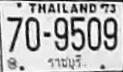0: (24, 16, 40, 51), (86, 16, 102, 51)
5: (70, 16, 85, 51)
7: (6, 16, 22, 51)
9: (53, 16, 69, 51), (103, 16, 118, 51)
RBR: (46, 53, 83, 71)
